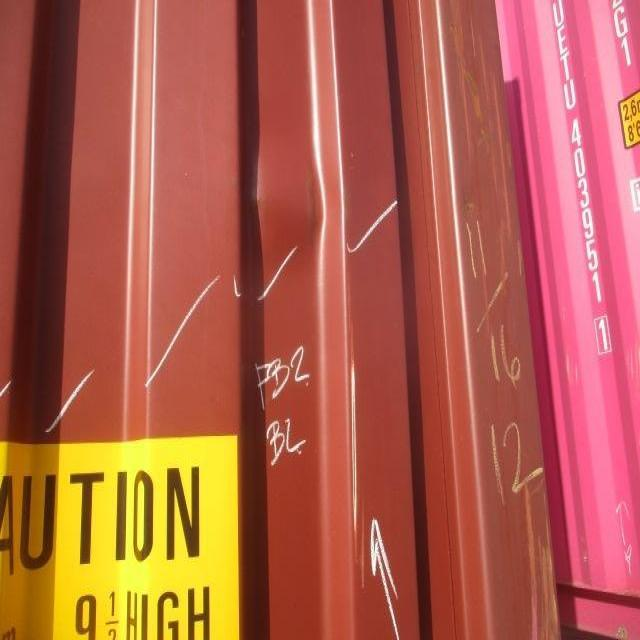Minor-Dent: (232, 103, 349, 312)
